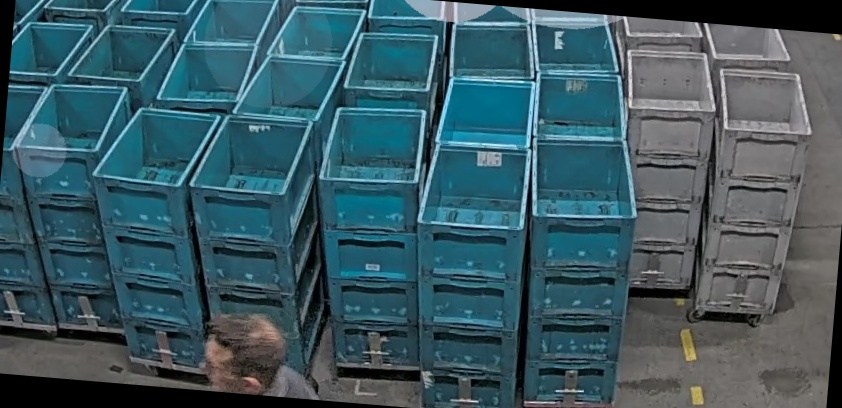4G: (695, 65, 818, 318), (605, 46, 722, 290)
B4: (173, 108, 337, 379), (76, 103, 234, 372), (508, 131, 646, 408), (301, 102, 442, 370), (0, 76, 145, 331), (400, 138, 534, 408)
